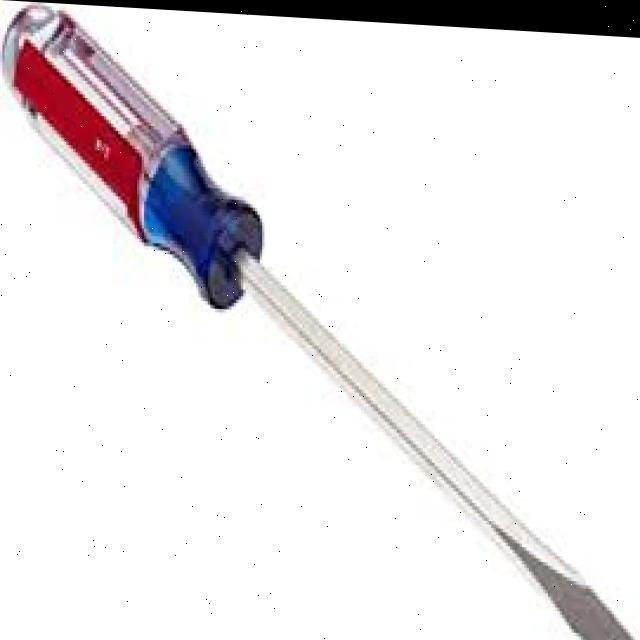Screwdriver: (4, 7, 635, 640)
